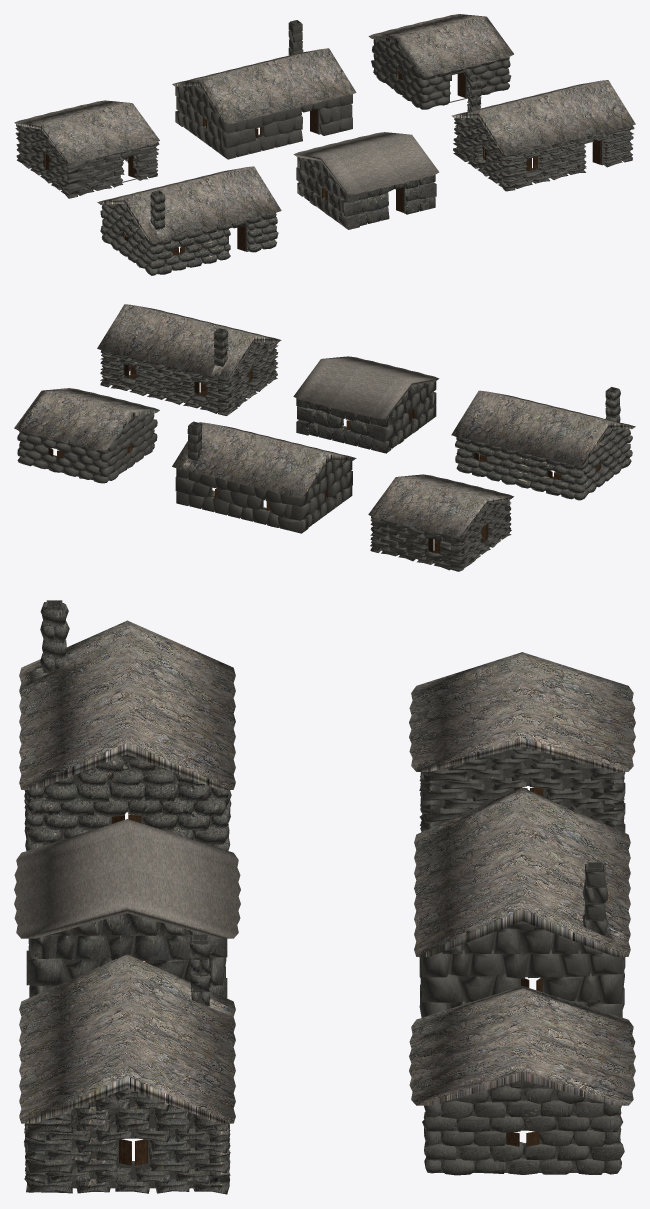
The model's file is Low_Poly_Medieval_Village.glb.
The picture shows the model from 3 angles, top to bottom: view 1: azimuth 30°, elevation 25°; view 2: azimuth 150°, elevation 25°; view 3: azimuth 270°, elevation 25°; orthographic projection. The views are drawn at different scales.
Parts seen in each view (by area): view 1: unnamed (×13); view 2: unnamed (×12); view 3: unnamed (×12).
Part boxes in pixels (left/top/right/bottom): unnamed (×13): left=14, top=14, right=635, bottom=275; unnamed (×12): left=14, top=304, right=635, bottom=571; unnamed (×12): left=14, top=600, right=635, bottom=1194.
Size of the model in its own units: 27.36 by 4.19 by 15.75.
Materials: 3 (3 with a texture image).
